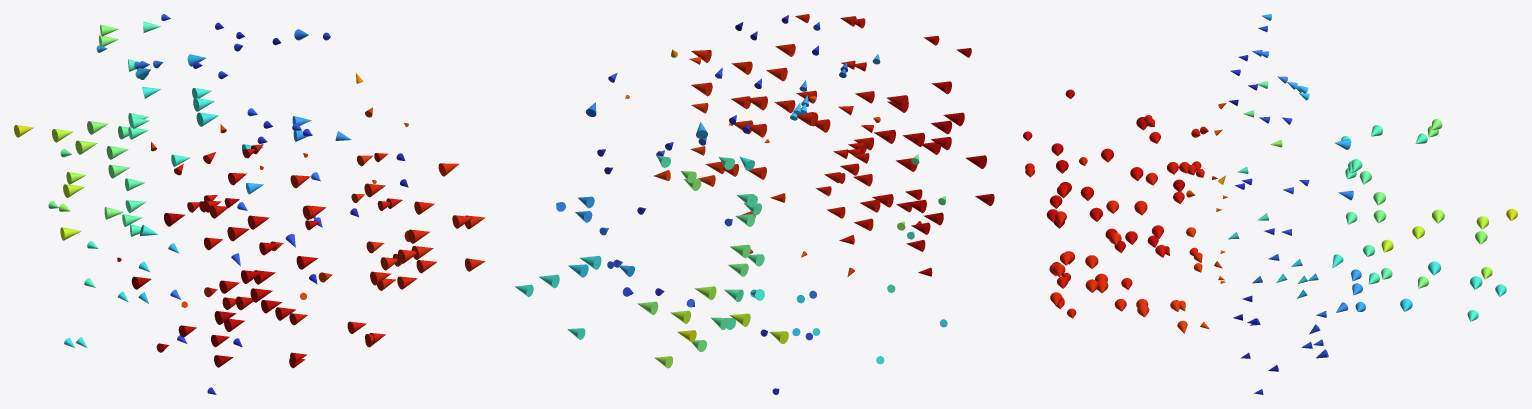
File: LineasCorrienteH2-O2_mh2-1.38_V-0.9.glb
3 views of the same model, side by side, from view 1: azimuth 30°, elevation 25°; view 2: azimuth 150°, elevation 25°; view 3: azimuth 270°, elevation 25° (orthographic). The views are drawn at different scales.
Bounding box in the file's own units: 0.000918 × 0.000961 × 0.00123.
2 materials, 2 textured.
